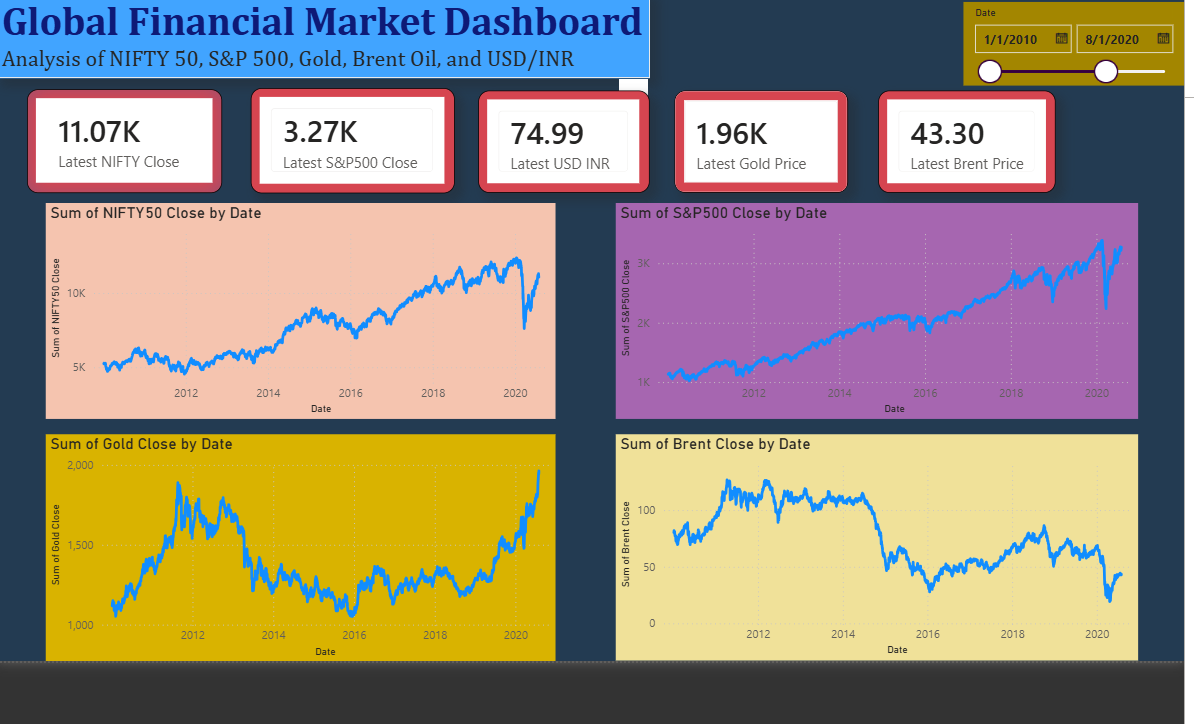

What the dashboard file says about the page in this screenshot:
{"tool":"powerbi","page":{"name":"Executive Dashboard","canvas":[1280,720],"ordinal":0},"visuals":[{"type":"textbox","box":[0,0,793.8,91.6],"z":0},{"type":"cardVisual","fields":{"Data":["Measures Table.Latest NIFTY Close"]},"box":[32.3,103.8,200,120],"z":1000},{"type":"cardVisual","fields":{"Data":["Measures Table.Latest S&P500 Close"]},"box":[273.6,102.4,220,120],"z":2000},{"type":"cardVisual","fields":{"Data":["Measures Table.Latest USD INR"]},"box":[518.8,105.1,200,120],"z":3000},{"type":"cardVisual","fields":{"Data":["Measures Table.Latest Gold Price"]},"box":[730.4,105.1,200,120],"z":4000},{"type":"cardVisual","fields":{"Data":["Measures Table.Latest Brent Price"]},"box":[950.1,105.1,200,120],"z":5000},{"type":"slicer","fields":{"Values":["Date Table.Date"]},"box":[901.6,9.4,378.7,90.3],"z":6000},{"type":"lineChart","fields":{"Category":["Date Table.Date"],"Y":["Sum(daily_market_data.NIFTY50 Close)"]},"box":[52.6,226.4,549.8,233.1],"z":7000},{"type":"lineChart","fields":{"Category":["Date Table.Date"],"Y":["Sum(daily_market_data.S&P500 Close)"]},"box":[667.1,226.4,563.3,233.1],"z":8000},{"type":"lineChart","fields":{"Category":["Date Table.Date"],"Y":["Sum(daily_market_data.Gold Close)"]},"box":[52.6,475.7,549.8,245.3],"z":9000},{"type":"lineChart","fields":{"Category":["Date Table.Date"],"Y":["Sum(daily_market_data.Brent Close)"]},"box":[667.1,475.7,563.3,243.9],"z":10000}]}

Visuals, with their boxes in screenshot pixels (x1, y1, x2, y2):
textbox: 0, 0, 730, 78
cardVisual - Measures Table.Latest NIFTY Close: 30, 89, 214, 200
cardVisual - Measures Table.Latest S&P500 Close: 252, 88, 454, 198
cardVisual - Measures Table.Latest USD INR: 477, 90, 661, 201
cardVisual - Measures Table.Latest Gold Price: 672, 90, 856, 201
cardVisual - Measures Table.Latest Brent Price: 874, 90, 1058, 201
slicer - Date Table.Date: 829, 2, 1178, 85
lineChart - Date Table.Date x Sum(daily_market_data.NIFTY50 Close): 48, 202, 554, 416
lineChart - Date Table.Date x Sum(daily_market_data.S&P500 Close): 614, 202, 1132, 416
lineChart - Date Table.Date x Sum(daily_market_data.Gold Close): 48, 431, 554, 657
lineChart - Date Table.Date x Sum(daily_market_data.Brent Close): 614, 431, 1132, 656
